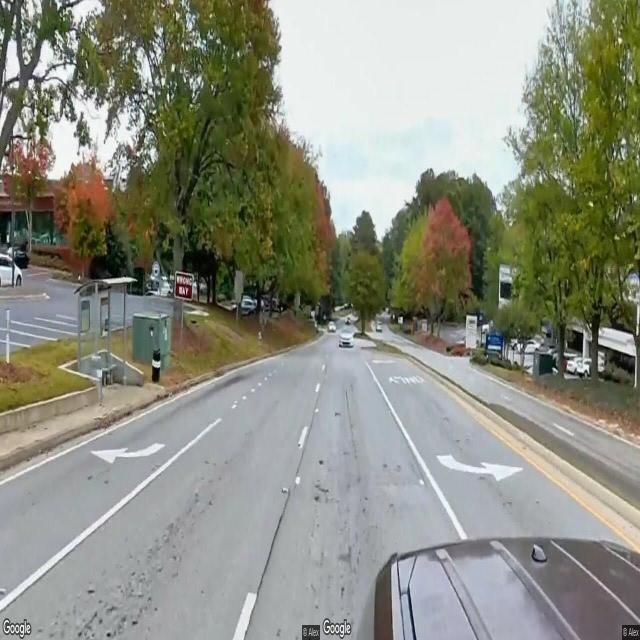seating: (98, 363, 117, 387)
shelter: (74, 275, 138, 392)
trash_can: (152, 349, 160, 382)
